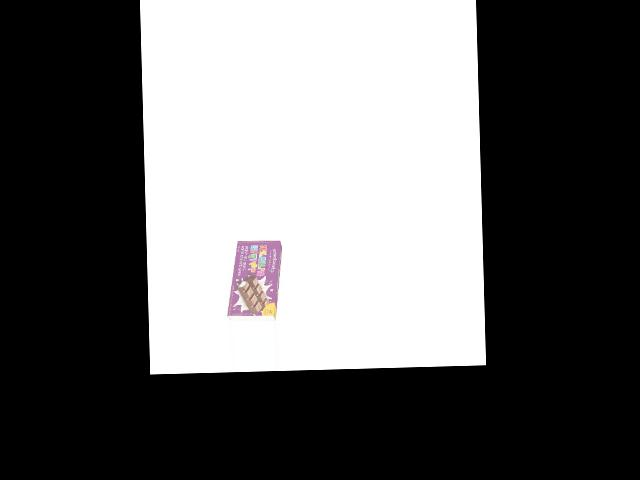chocolate: (228, 234, 284, 322)
